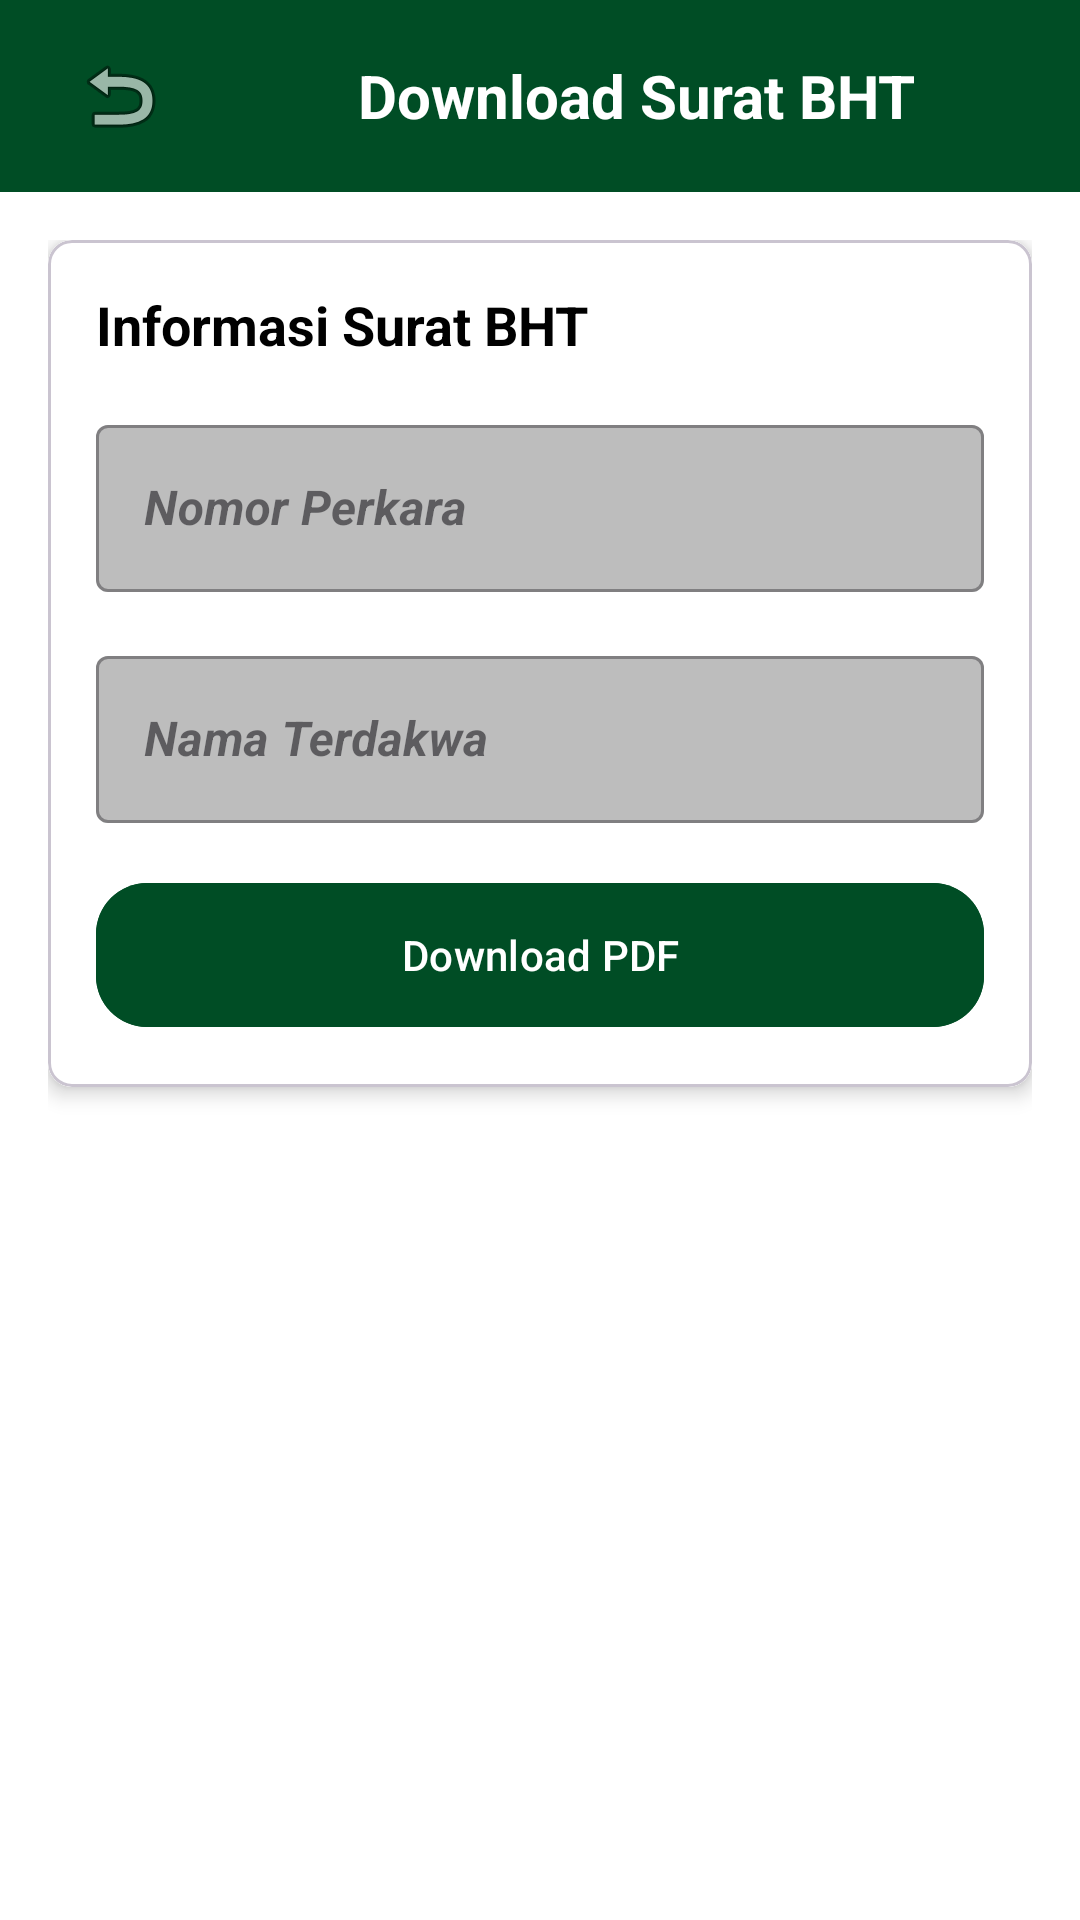

Locate icon controls on the screen. Image size 1080px x 1920px, boxes as bbox(x1, y1, x2, y2).
Kembali: bbox(87, 66, 155, 127)
